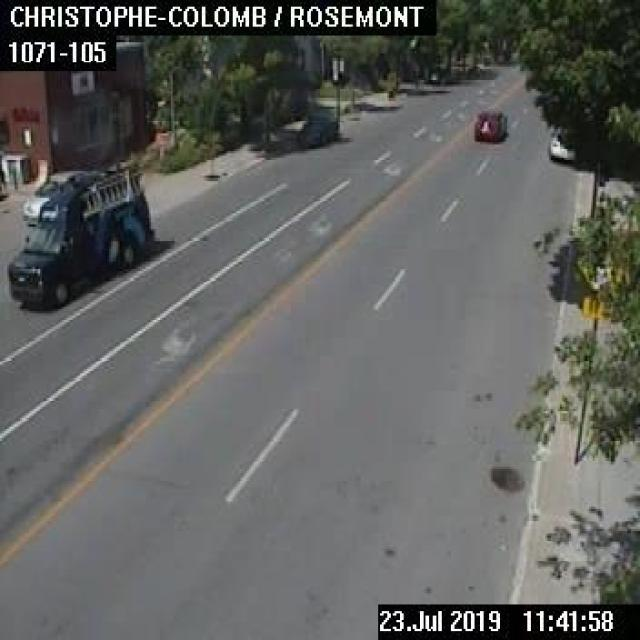vehicle: (6, 167, 151, 307), (298, 117, 338, 146), (472, 109, 507, 140), (548, 130, 574, 160)
